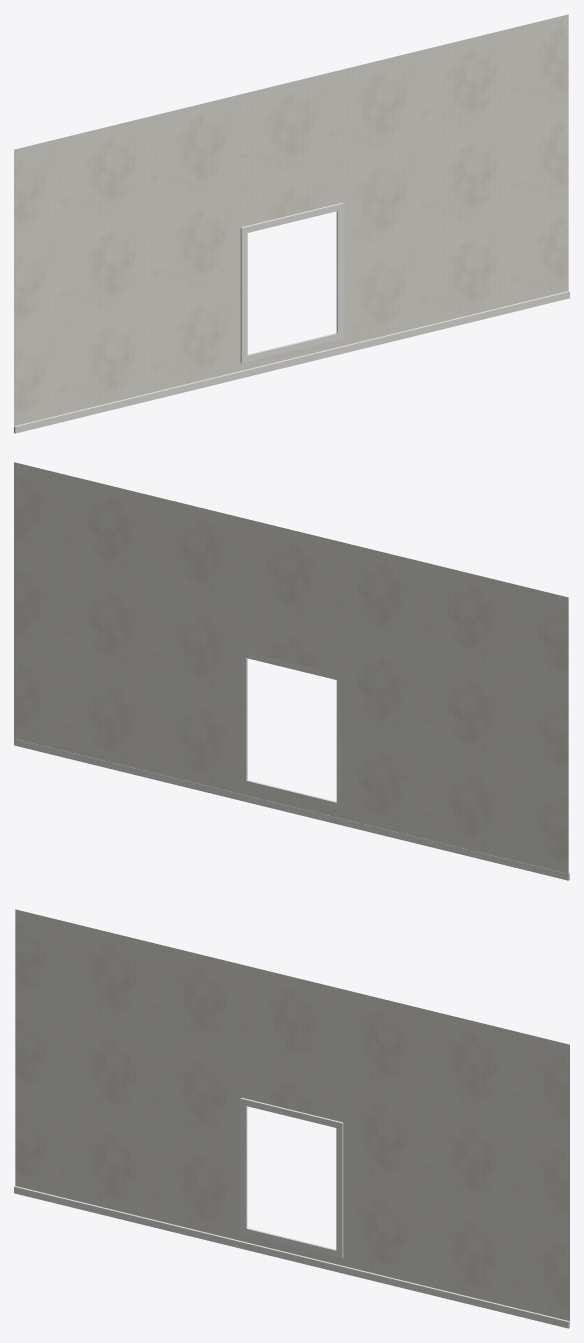
3 renders of one model, top to bottom at view 1: azimuth 30°, elevation 25°; view 2: azimuth 150°, elevation 25°; view 3: azimuth 330°, elevation 25°, orthographic.
Parts seen in each view (by area): view 1: jx_wm_12_094bc635; view 2: jx_wm_12_094bc635; view 3: jx_wm_12_094bc635.
Part boxes in pixels (x1,y1,x2,y2): jx_wm_12_094bc635: [14, 14, 569, 433]; jx_wm_12_094bc635: [14, 462, 569, 880]; jx_wm_12_094bc635: [14, 909, 569, 1328].
Bounding box in the file's own units: 12.3 × 6 × 0.05.
Materials: 2 (2 with a texture image).
